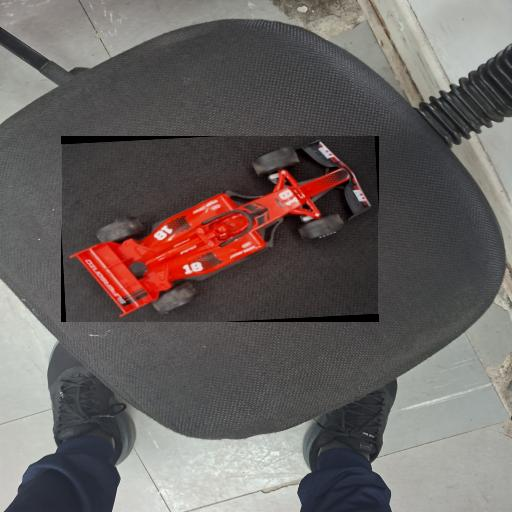carro: (63, 136, 378, 322)
